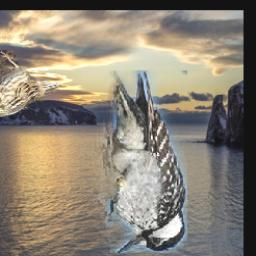Sparrow: (0, 50, 60, 117)
Woodpecker: (85, 71, 187, 254)
